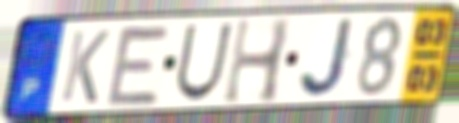8: (354, 15, 406, 98)
E: (103, 23, 174, 108)
H: (220, 16, 295, 108)
J: (297, 15, 359, 100)
K: (57, 28, 113, 107)
U: (172, 21, 236, 104)
